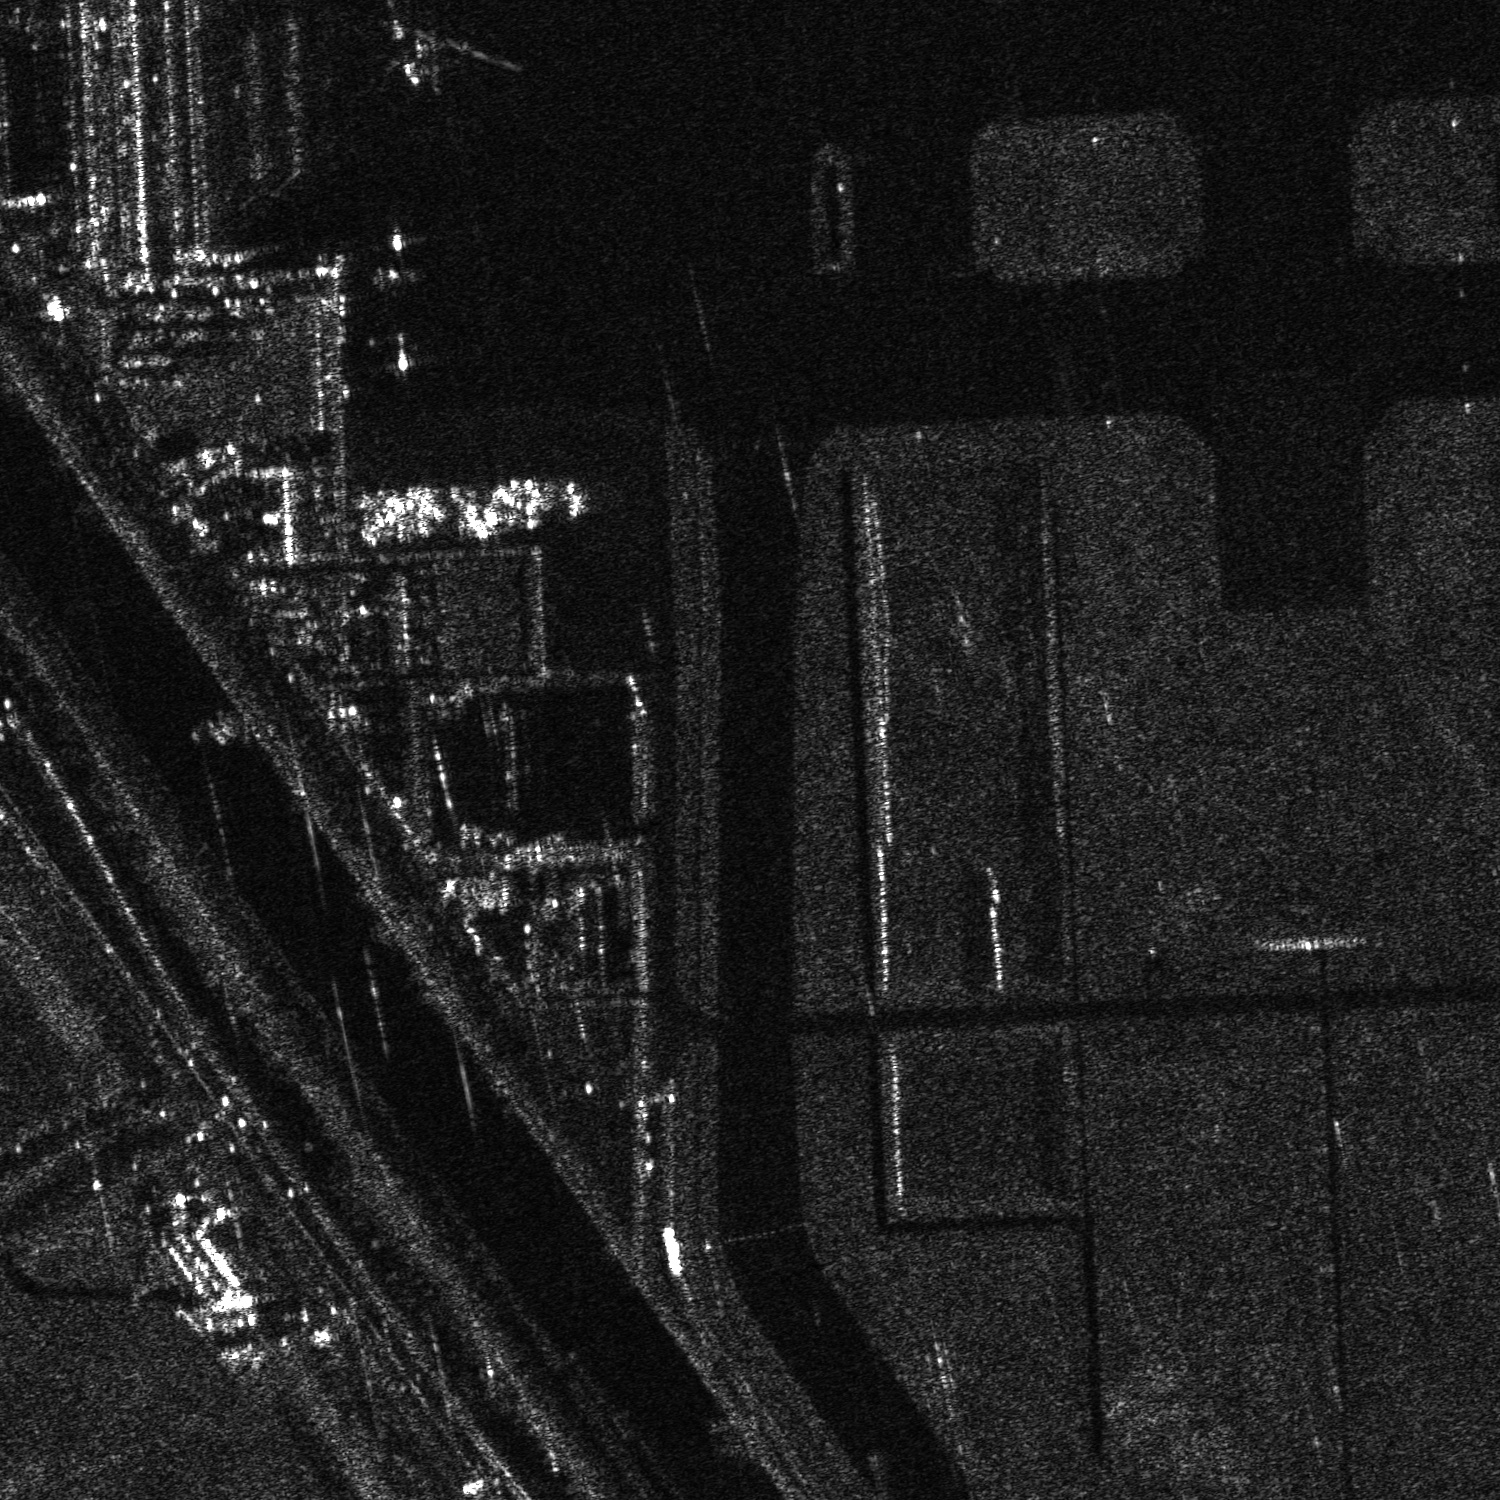A220: (396, 21, 490, 93)
